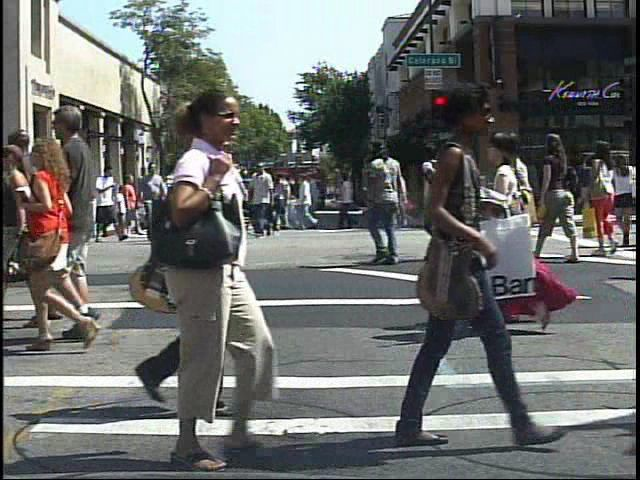person: (355, 78, 544, 461), (121, 83, 290, 476), (456, 127, 570, 347), (42, 100, 118, 348), (20, 128, 99, 349), (361, 134, 418, 275), (510, 129, 545, 344), (412, 138, 469, 269), (538, 126, 586, 261), (583, 135, 624, 261), (87, 162, 129, 248), (144, 159, 175, 245), (162, 158, 193, 241), (388, 163, 415, 236), (616, 146, 639, 223), (70, 180, 96, 243), (81, 183, 101, 227), (230, 148, 231, 250)
